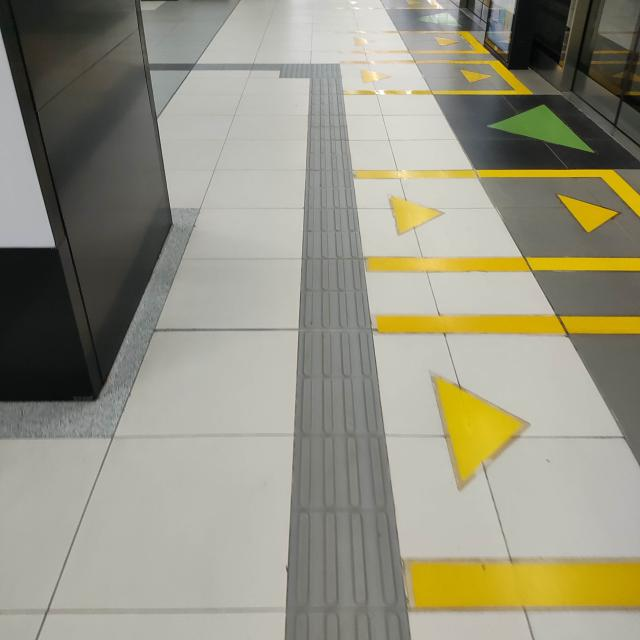kiri: (245, 45, 354, 96)
